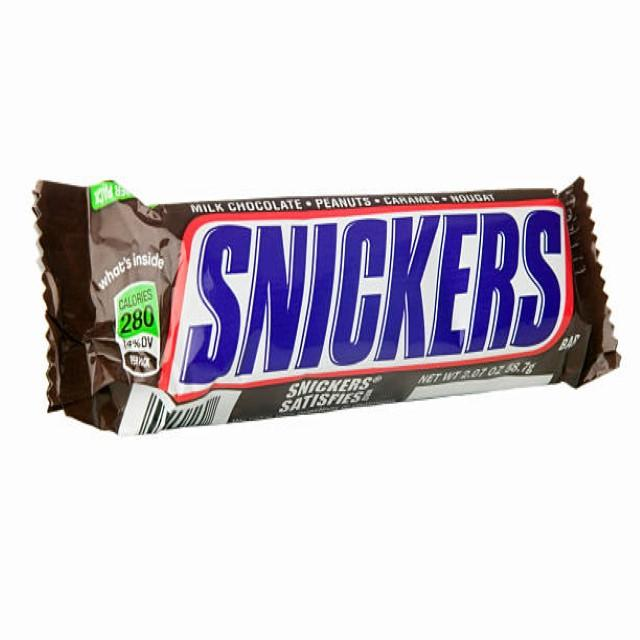snickers_chocolate: (48, 178, 590, 412)
